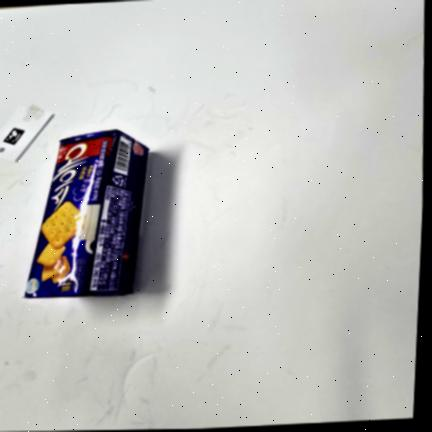cracker_ace: (26, 130, 148, 298)
